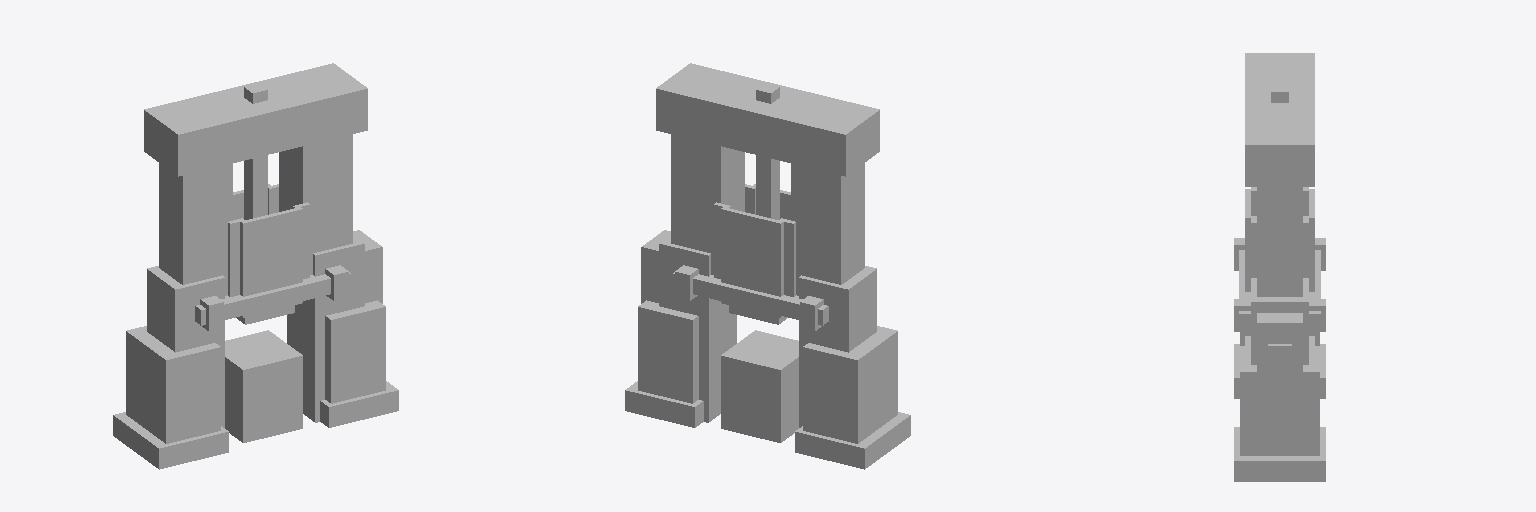
Rendered from hydraulic_press.obj.
3 views of the same model, side by side, from view 1: azimuth 30°, elevation 25°; view 2: azimuth 150°, elevation 25°; view 3: azimuth 270°, elevation 25° (orthographic).
Visible parts, largest first — view 1: hydraulic_press; view 2: hydraulic_press; view 3: hydraulic_press.
Boxes of the visible parts, box(x1,y1,x2,y2) form: hydraulic_press: box(113, 63, 398, 469); hydraulic_press: box(625, 63, 910, 469); hydraulic_press: box(1234, 53, 1325, 481).
Bounding box in the file's own units: 3 × 4 × 1.